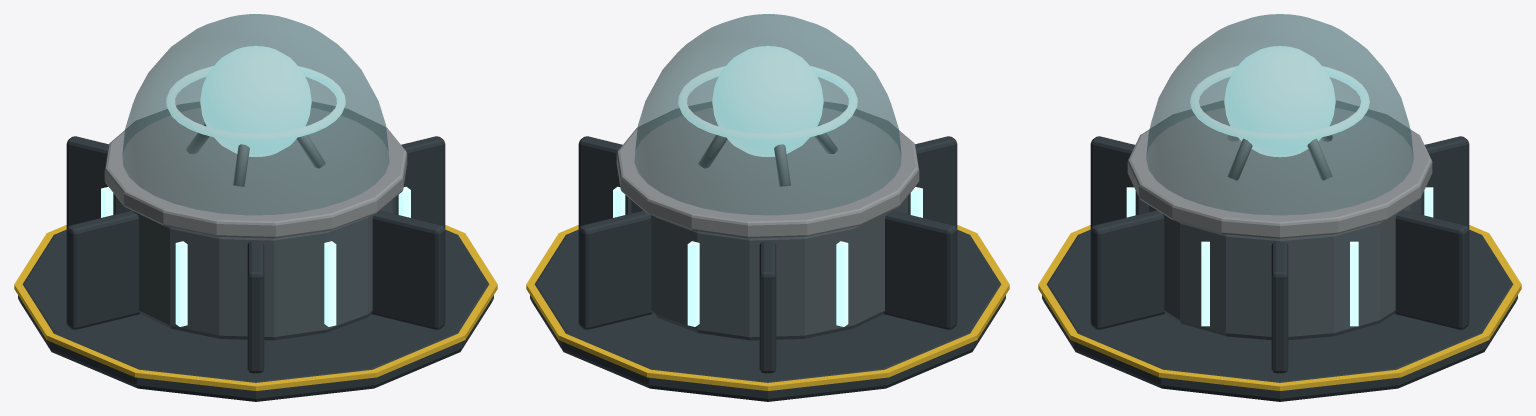
File: core_reactor.fbx
3 renders of one model, left to right at view 1: azimuth 30°, elevation 25°; view 2: azimuth 150°, elevation 25°; view 3: azimuth 270°, elevation 25°, orthographic.
Visible parts, largest first — view 1: core_reactor, ANIM_pulse_0.8__core, ANIM_spin_z_30__orbit; view 2: core_reactor, ANIM_pulse_0.8__core, ANIM_spin_z_30__orbit; view 3: core_reactor, ANIM_pulse_0.8__core, ANIM_spin_z_30__orbit.
Part boxes in pixels (left/top/right/bottom): core_reactor: left=14, top=14, right=497, bottom=401; ANIM_pulse_0.8__core: left=200, top=46, right=311, bottom=156; ANIM_spin_z_30__orbit: left=166, top=66, right=345, bottom=141; core_reactor: left=526, top=14, right=1009, bottom=401; ANIM_pulse_0.8__core: left=712, top=46, right=823, bottom=156; ANIM_spin_z_30__orbit: left=678, top=66, right=857, bottom=141; core_reactor: left=1038, top=14, right=1521, bottom=401; ANIM_pulse_0.8__core: left=1224, top=46, right=1335, bottom=157; ANIM_spin_z_30__orbit: left=1190, top=66, right=1369, bottom=141.
Bounding box in the file's own units: 4.68 × 2.97 × 4.68.
